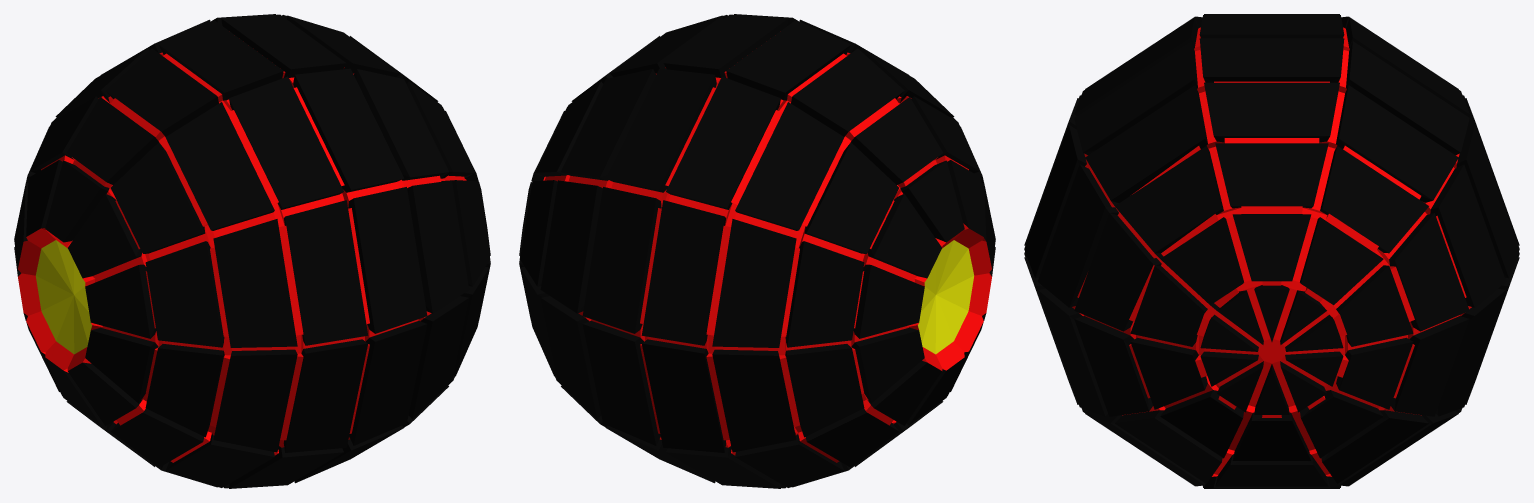
The model's file is drone_black.glb.
3 views of the same model, side by side, from view 1: azimuth 30°, elevation 25°; view 2: azimuth 150°, elevation 25°; view 3: azimuth 270°, elevation 25° (orthographic). The views are drawn at different scales.
Visible parts, largest first — view 1: 球; view 2: 球; view 3: 球.
Part boxes in pixels (x1,y1,x2,y2): 球: [14, 14, 490, 488]; 球: [519, 14, 995, 488]; 球: [1024, 14, 1519, 488].
Bounding box in the file's own units: 1.94 × 1.9 × 1.98.
